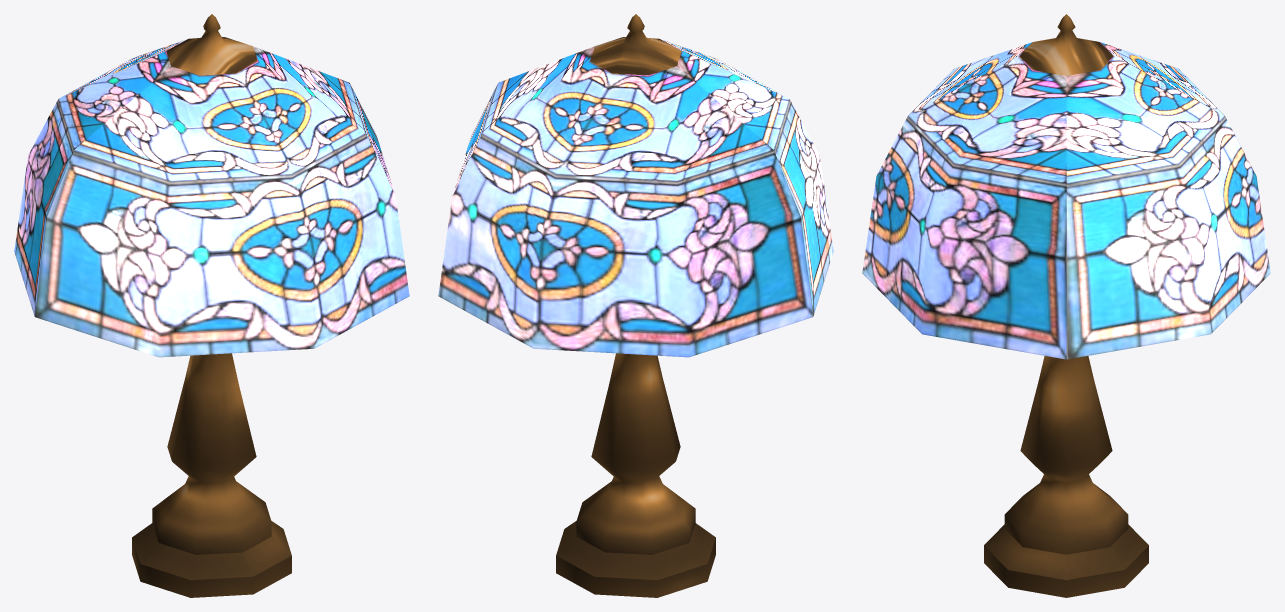
File: lamp_tiffany.fbx
3 views of the same model, side by side, from view 1: azimuth 30°, elevation 25°; view 2: azimuth 150°, elevation 25°; view 3: azimuth 270°, elevation 25° (orthographic).
Parts seen in each view (by area): view 1: lamp_tiffany; view 2: lamp_tiffany; view 3: lamp_tiffany.
Part boxes in pixels (<box>): lamp_tiffany: <box>14,14,409,597</box>; lamp_tiffany: <box>438,14,833,597</box>; lamp_tiffany: <box>862,14,1270,597</box>.
Size of the model in its own units: 47.55 by 70.52 by 47.55.
Materials: 1 (1 with a texture image).
